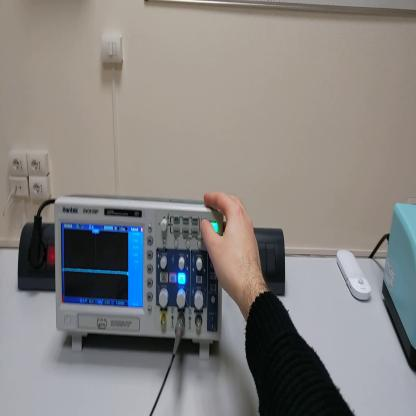hand: (200, 191, 265, 306)
oscilloscope: (55, 193, 224, 357)
socket: (16, 223, 54, 292)
welder station: (386, 205, 416, 374)
